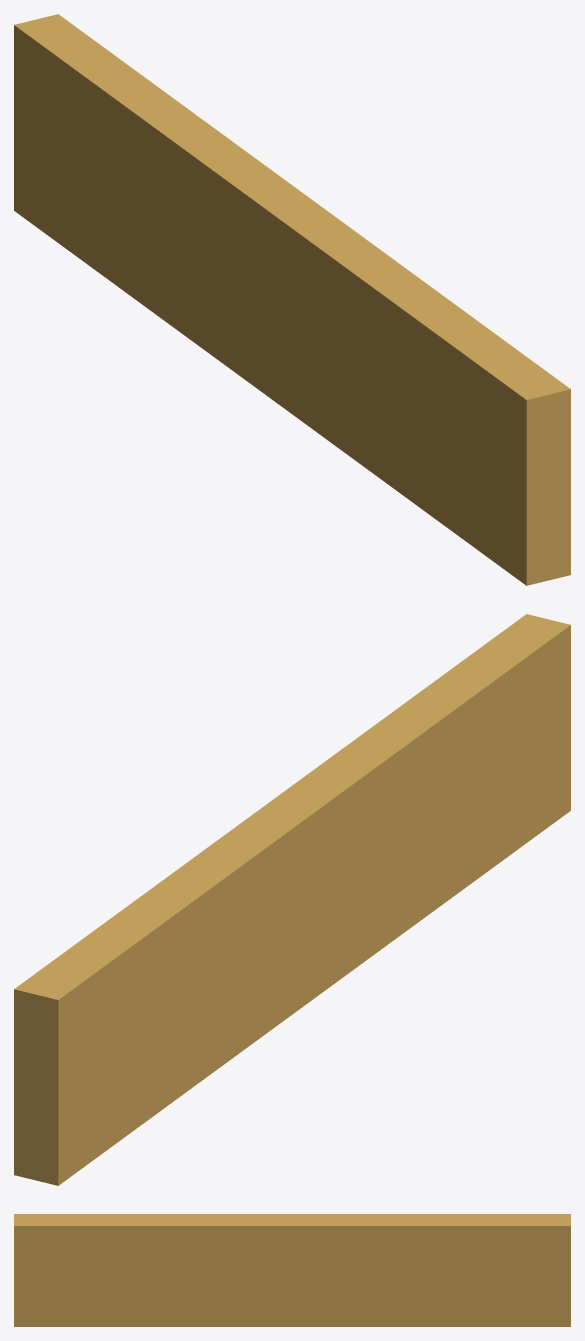
The model's file is pared4a.obj.
3 views of the same model, one above another, from view 1: azimuth 30°, elevation 25°; view 2: azimuth 150°, elevation 25°; view 3: azimuth 270°, elevation 25° (orthographic). The views are drawn at different scales.
Parts seen in each view (by area): view 1: Wall.046; view 2: Wall.046; view 3: Wall.046.
Part boxes in pixels (<box>): Wall.046: <box>14,14,570,585</box>; Wall.046: <box>14,614,570,1185</box>; Wall.046: <box>14,1214,570,1326</box>.
Size of the model in its own units: 1 by 4 by 20.
5 materials, 5 textured.
